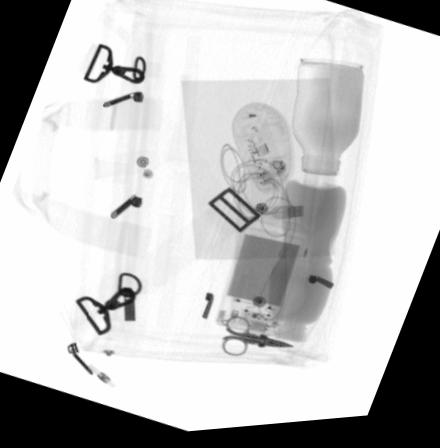Powerbank: (212, 228, 305, 343)
Scissors: (221, 320, 297, 361)
